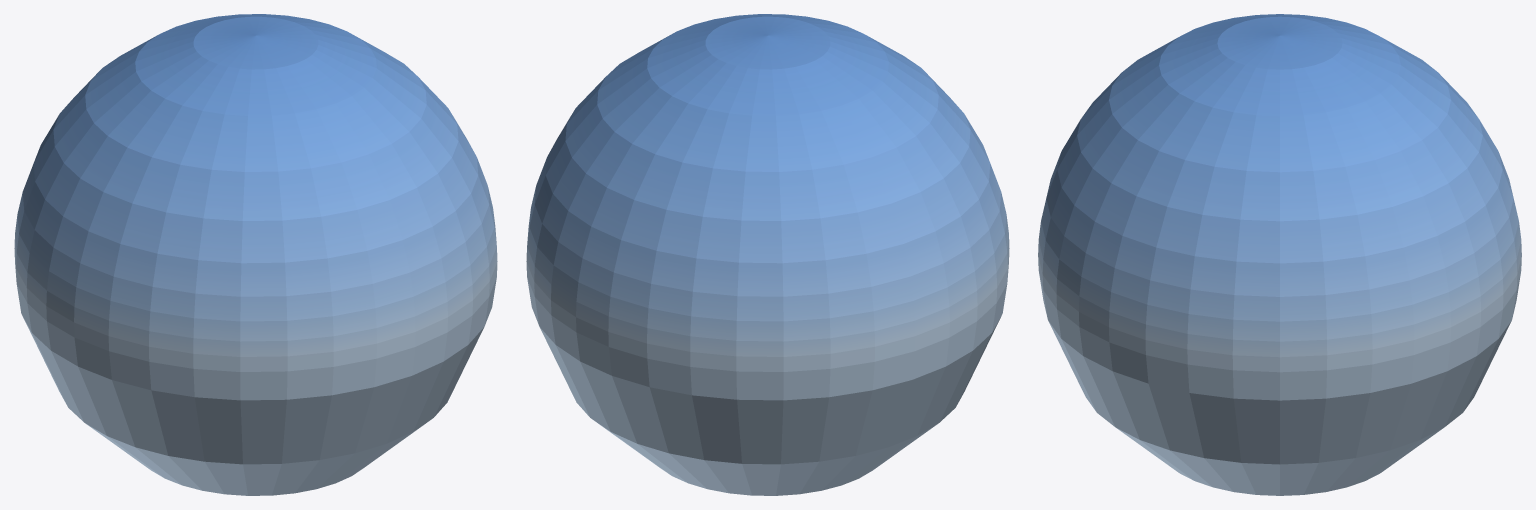
Rendered from source.glb.
The picture shows the model from 3 angles, left to right: view 1: azimuth 30°, elevation 25°; view 2: azimuth 150°, elevation 25°; view 3: azimuth 270°, elevation 25°; orthographic projection.
Parts seen in each view (by area): view 1: sky; view 2: sky; view 3: sky.
Boxes of the visible parts, box(x1,y1,x2,y2) form: sky: box(14, 14, 497, 495); sky: box(526, 14, 1009, 495); sky: box(1038, 14, 1521, 495).
Size of the model in its own units: 3300 by 3300 by 3300.
1 material, 1 textured.
